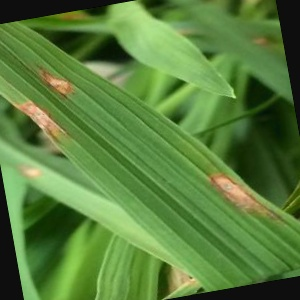Brown_Spot: (194, 156, 278, 230), (12, 86, 73, 147), (29, 58, 81, 102)
